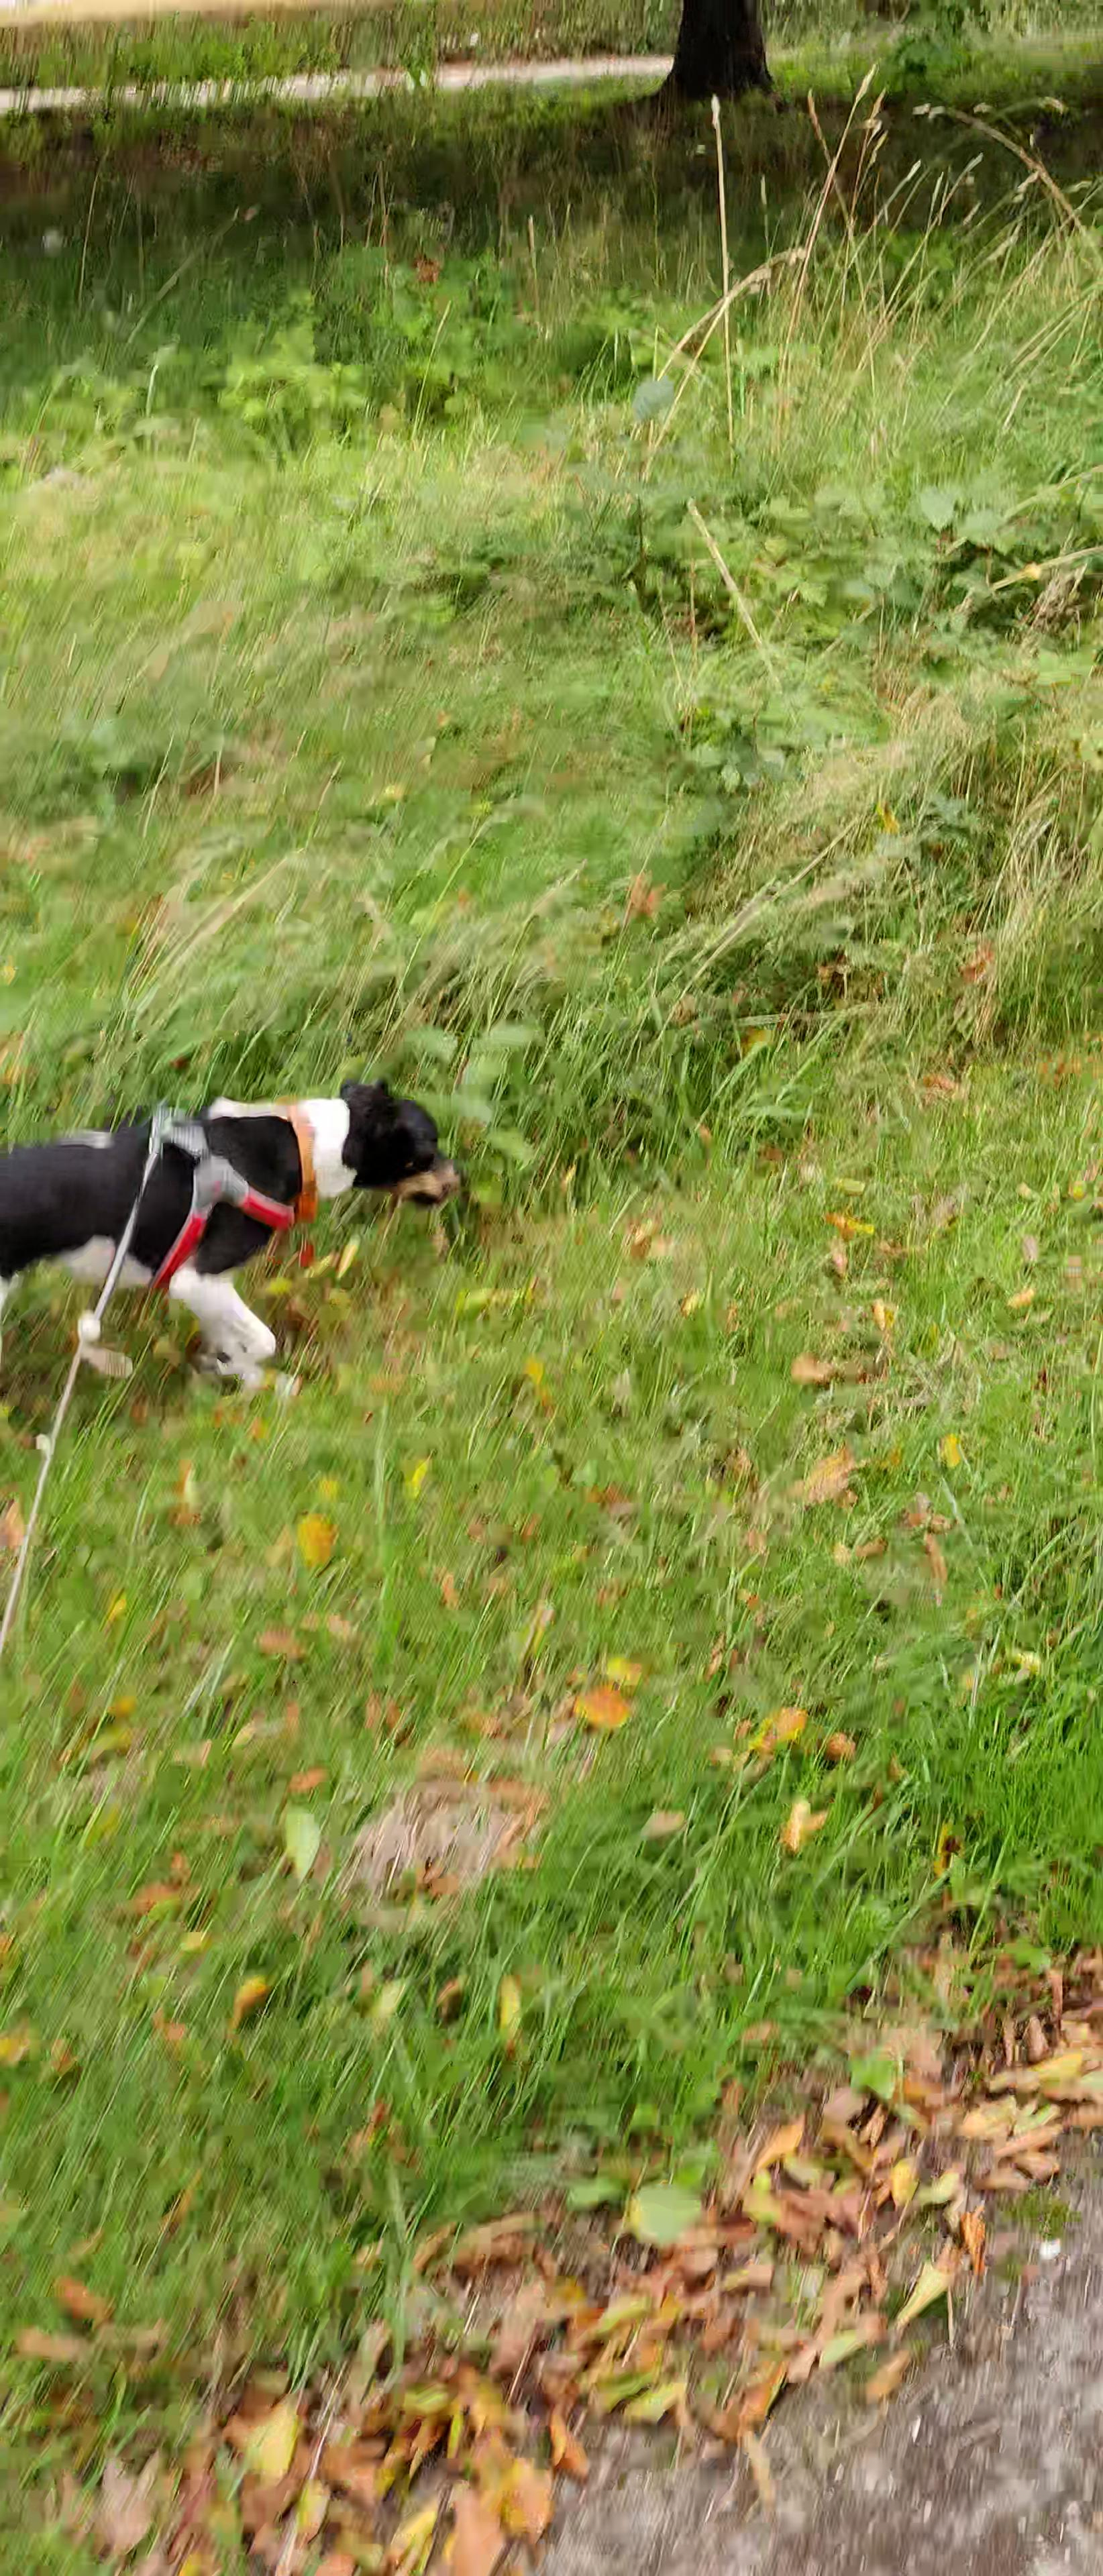Dog: (0, 1069, 472, 1401)
